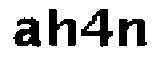4: (80, 8, 115, 51)
a: (9, 18, 45, 50)
h: (45, 5, 81, 51)
n: (117, 16, 152, 52)
